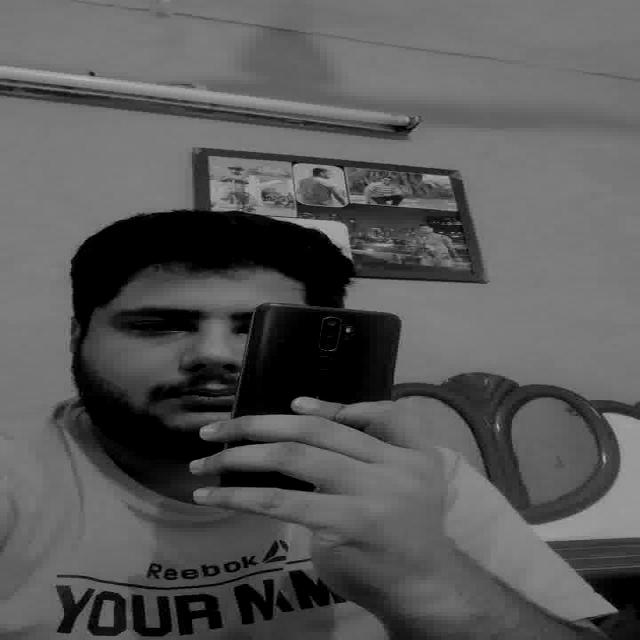fake: (234, 304, 404, 426)
real: (111, 299, 247, 342)
